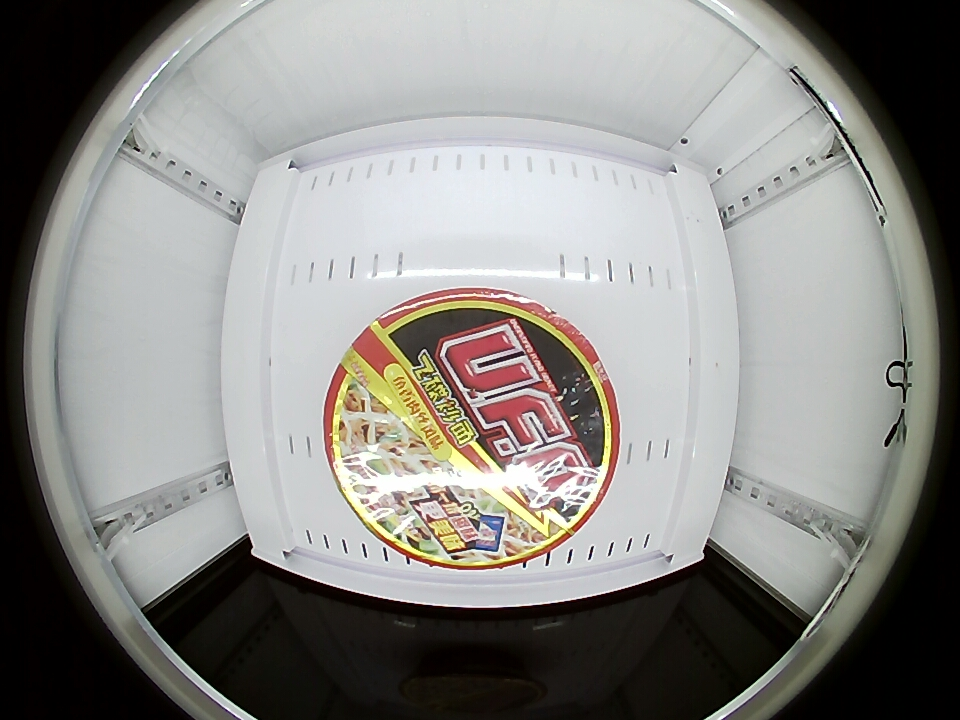ufo2: (323, 290, 621, 570)
